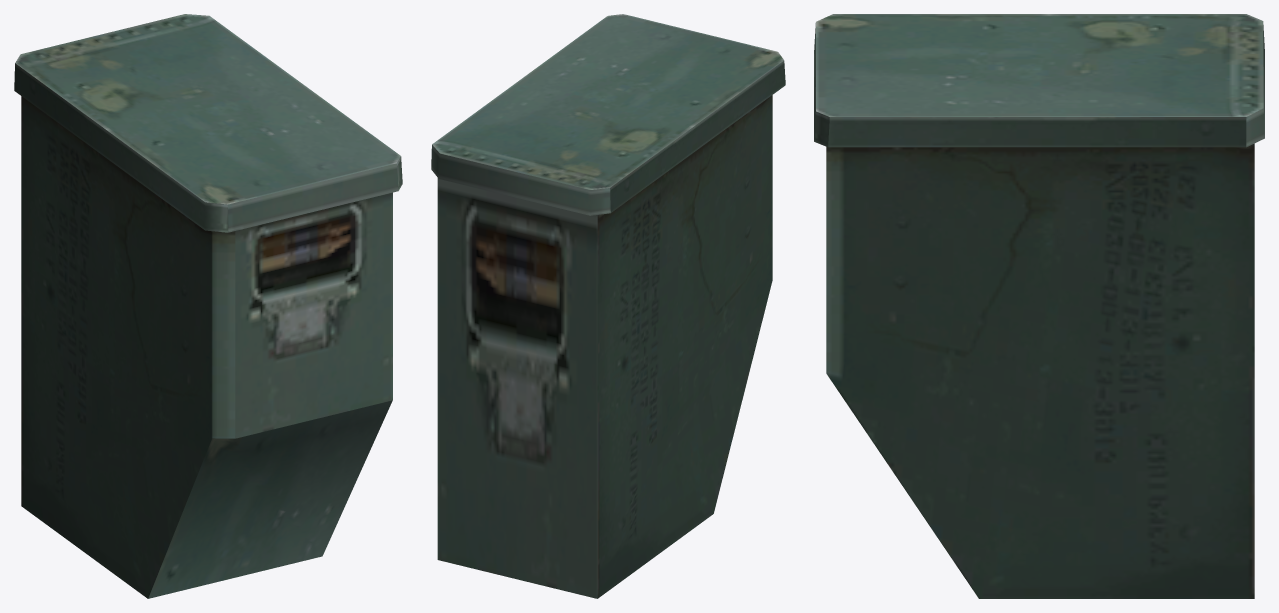
The model's file is weapon_saw_clip_LOD0.obj.
The picture shows the model from 3 angles, left to right: view 1: azimuth 30°, elevation 25°; view 2: azimuth 150°, elevation 25°; view 3: azimuth 270°, elevation 25°; orthographic projection. The views are drawn at different scales.
Visible parts, largest first — view 1: mtl_weapon_saw_misc_nocamo; view 2: mtl_weapon_saw_misc_nocamo; view 3: mtl_weapon_saw_misc_nocamo.
Boxes of the visible parts, x1,y1,x2,y2 form: mtl_weapon_saw_misc_nocamo: [14, 14, 402, 598]; mtl_weapon_saw_misc_nocamo: [431, 14, 785, 598]; mtl_weapon_saw_misc_nocamo: [814, 14, 1264, 598].
Size of the model in its own units: 5.91 by 12.91 by 10.83.
Materials: 1 (1 with a texture image).
